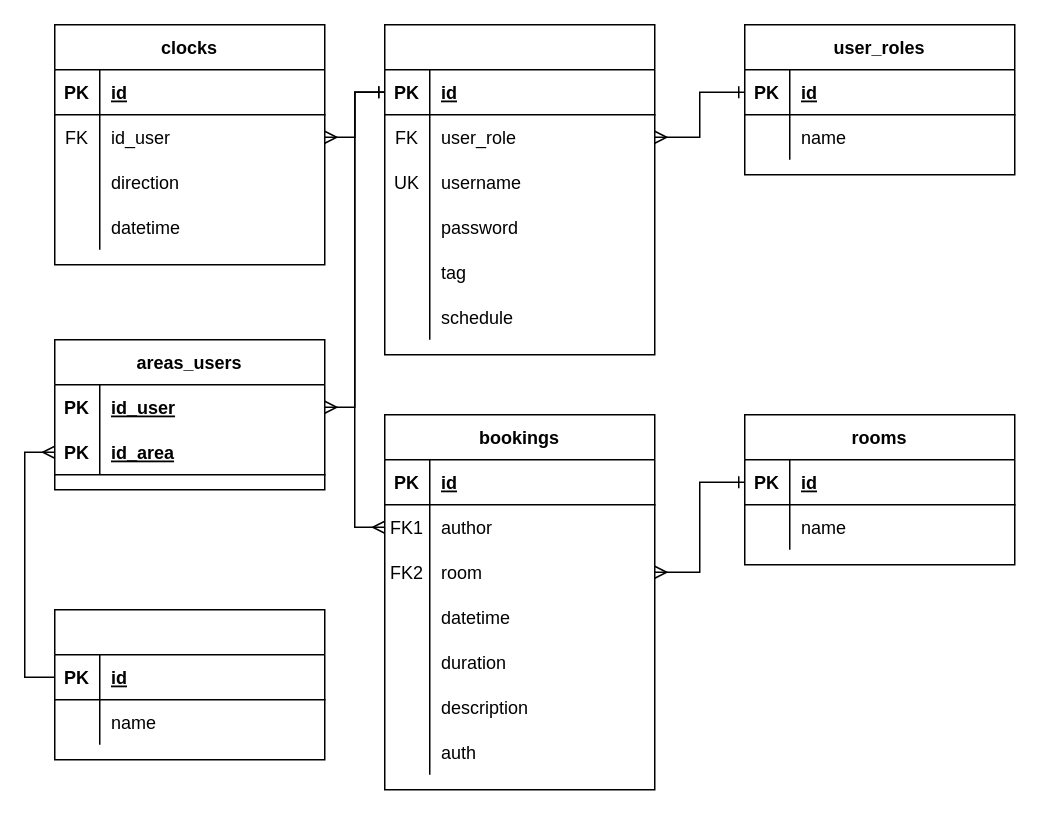
Image size: 1040x815. Some labels were removed from this diagram. Here are the shapes that lost their labels. From the top down, the box of each, then its label:
(383, 23, 655, 355): users
(53, 608, 325, 760): areas
